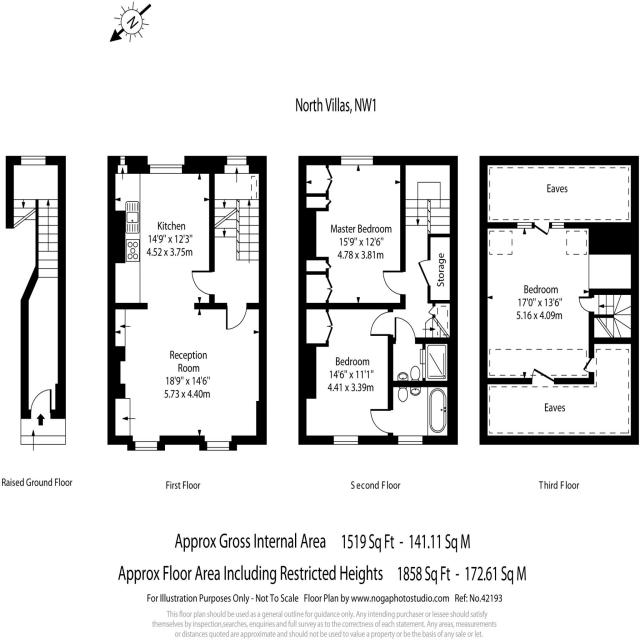DOOR: (369, 308, 394, 337), (368, 408, 394, 435), (381, 269, 406, 296), (191, 268, 215, 296), (394, 315, 417, 344), (225, 303, 248, 331), (530, 367, 557, 385), (577, 295, 595, 313), (533, 222, 552, 237), (582, 353, 594, 374)
ROOM: (106, 157, 266, 454), (479, 222, 640, 384), (298, 155, 406, 311), (298, 303, 394, 445)
WINDOW: (223, 155, 251, 174), (339, 154, 375, 166), (148, 163, 184, 174), (205, 440, 231, 452), (396, 435, 424, 446), (332, 435, 359, 446), (133, 441, 158, 451), (514, 222, 535, 229), (550, 221, 566, 229)
